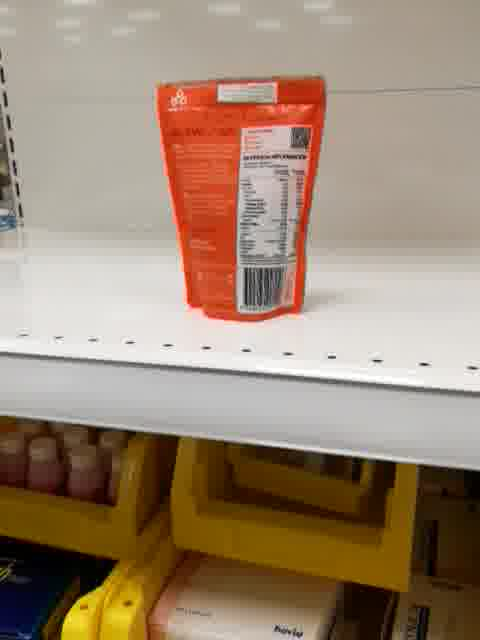whitechia: (151, 71, 329, 325)
